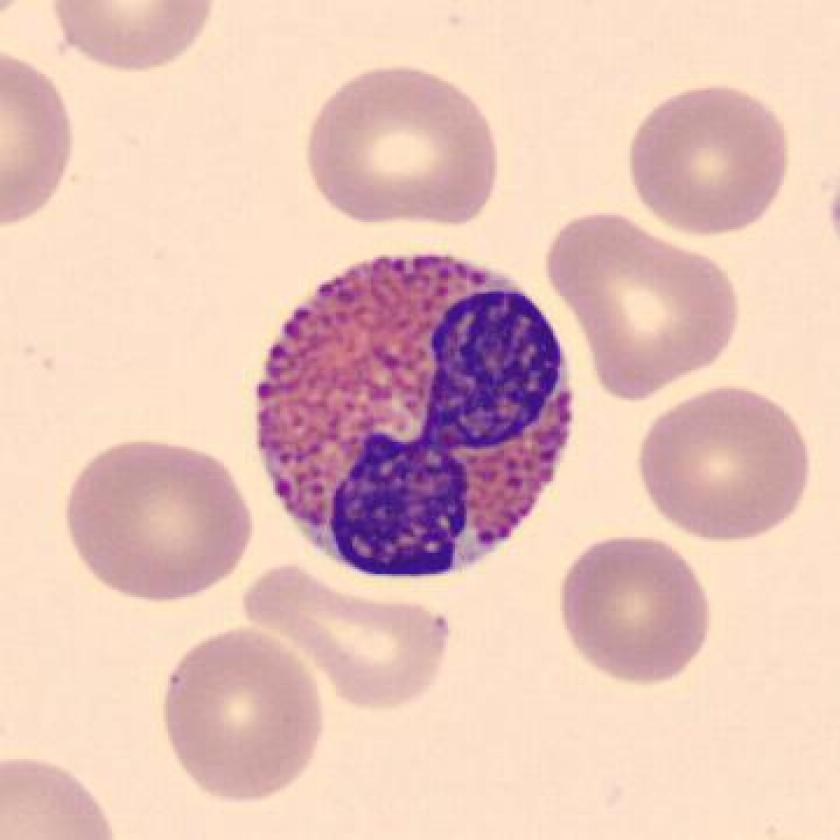eosinophil: (242, 240, 592, 594)
